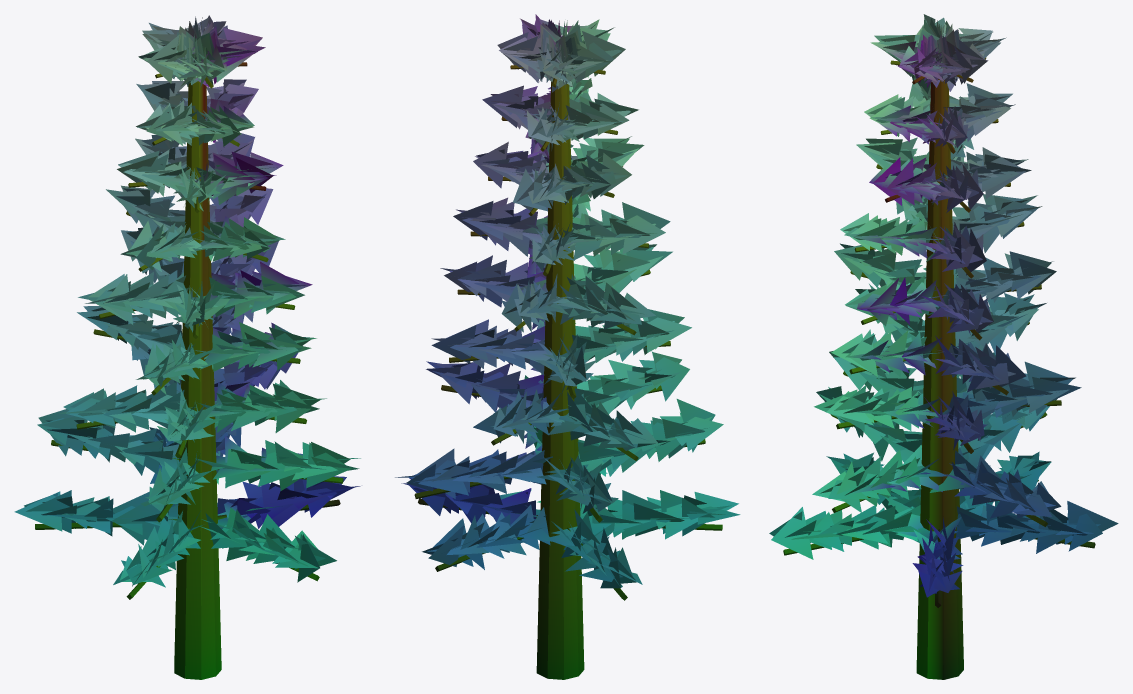
File: mature_conifer_03.glb
3 renders of one model, left to right at view 1: azimuth 30°, elevation 25°; view 2: azimuth 150°, elevation 25°; view 3: azimuth 270°, elevation 25°, orthographic.
Parts seen in each view (by area): view 1: mature_conifer_03; view 2: mature_conifer_03; view 3: mature_conifer_03.
Boxes of the visible parts, left/top/right/bottom form: mature_conifer_03: left=14, top=15, right=360, bottom=679; mature_conifer_03: left=395, top=14, right=740, bottom=679; mature_conifer_03: left=769, top=14, right=1118, bottom=679.
Bounding box in the file's own units: 7.24 × 15.32 × 7.51.
